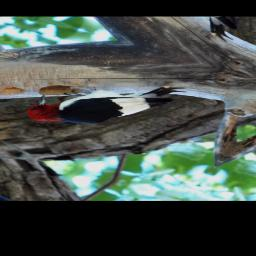Woodpecker: (21, 54, 191, 147)
